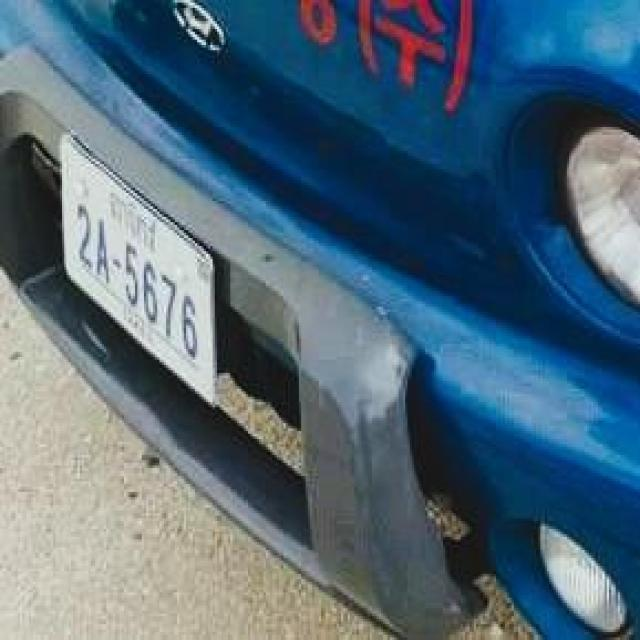Takeo: (104, 188, 158, 250)
